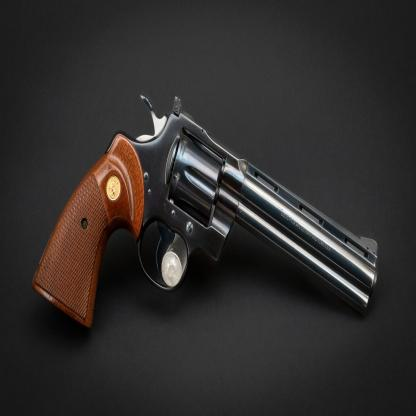handgun: (27, 86, 376, 363)
